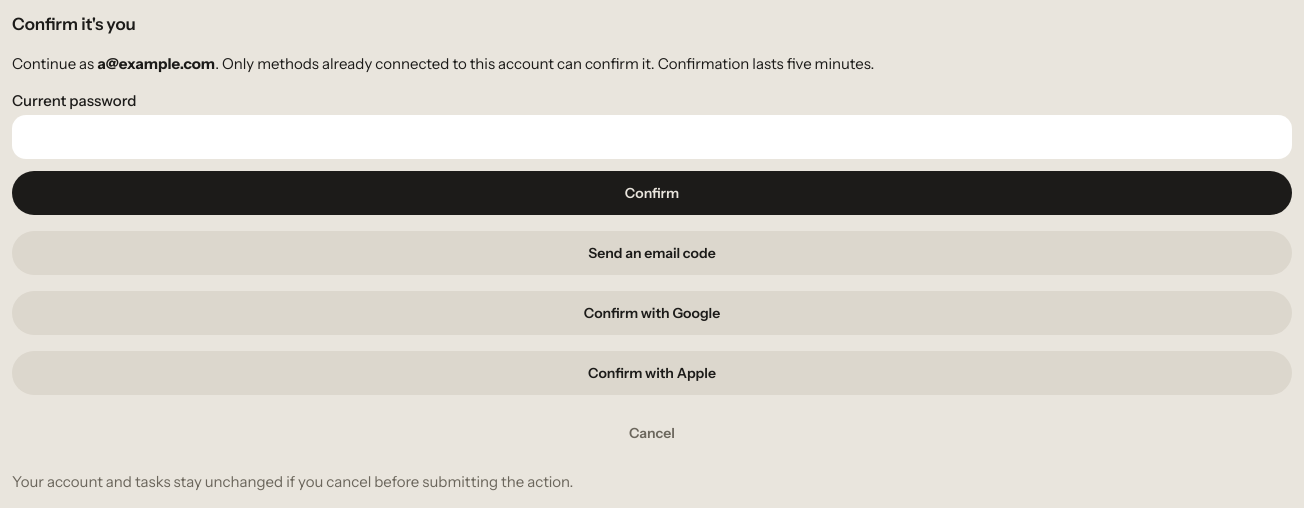
Test: 023-FR-006/008/009/011/013/015/016/021 remaining auth failure and recovery journeys › canceling an email confirmation returns to connected choices and rejects the wrong code purpose
Click the button "Send an email code" at (652, 253), box [12,231,1292,275]
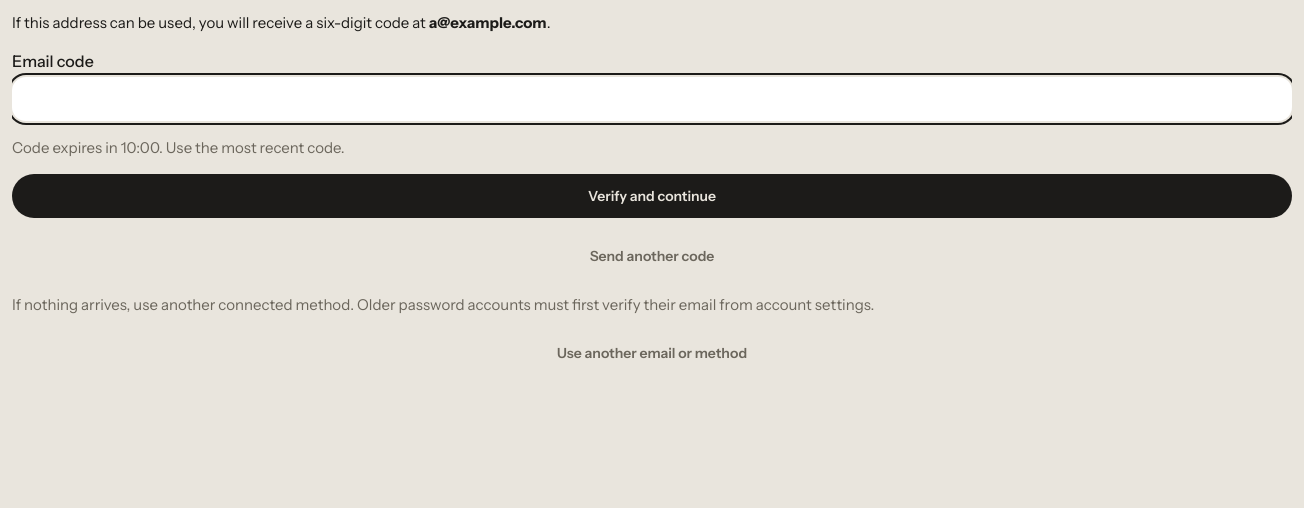
Expected: the field labelled "Email code" is shown, [12,77,1292,121]
Click the button "Use another email or method" at (652, 353), box [12,331,1292,375]
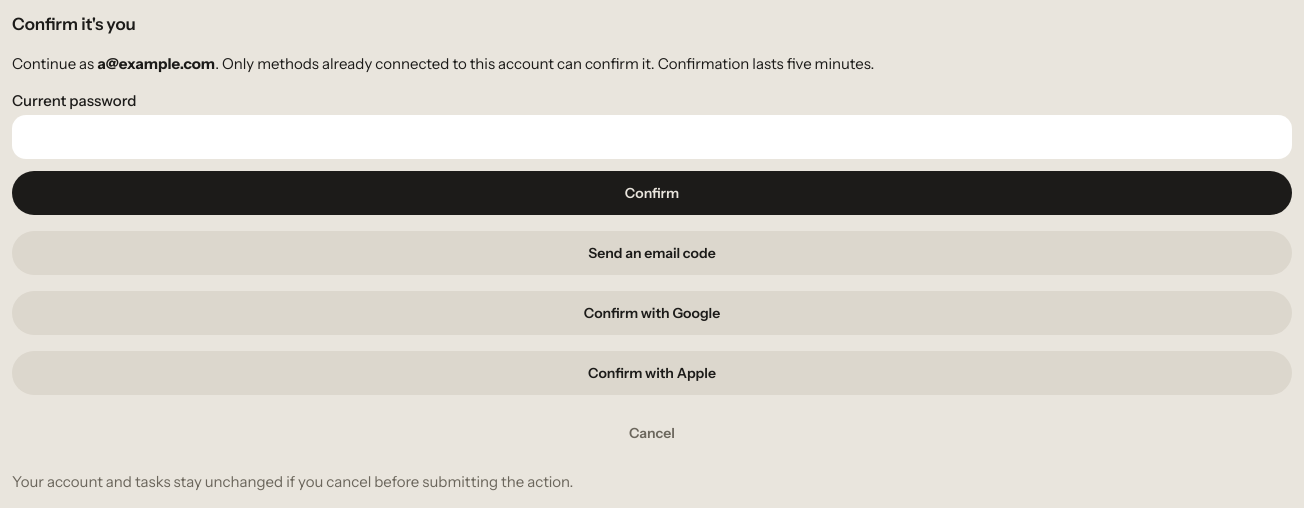
Expected: the button "Confirm with Apple" is shown, [12,351,1292,395]
Click the button "Send an email code" at (652, 253), box [12,231,1292,275]
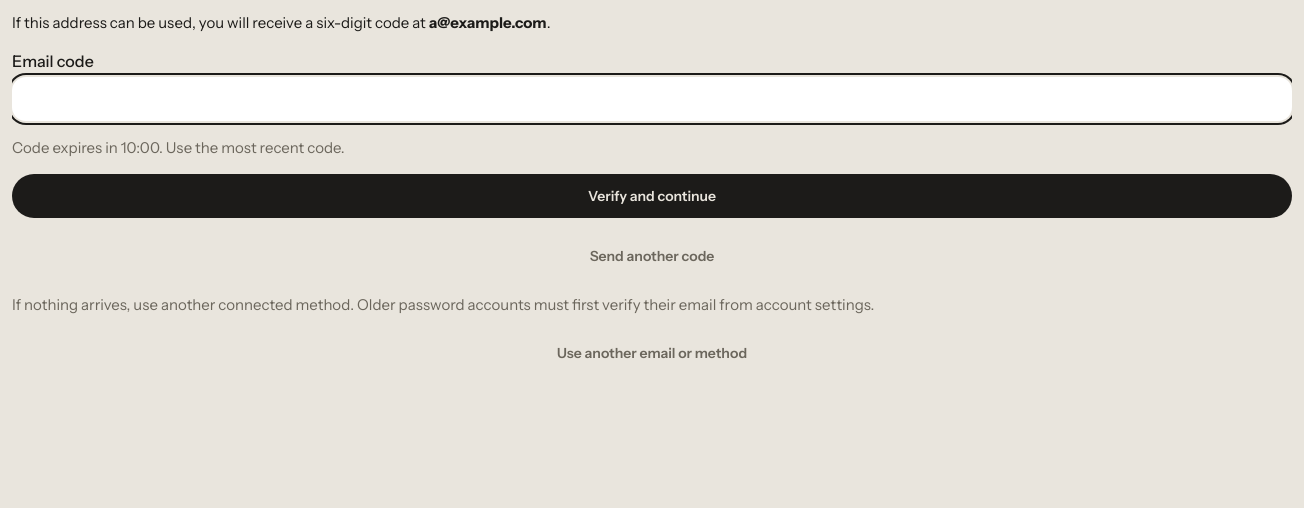
Type "123456" into the field labelled "Email code" at (652, 99), box [12,77,1292,121]
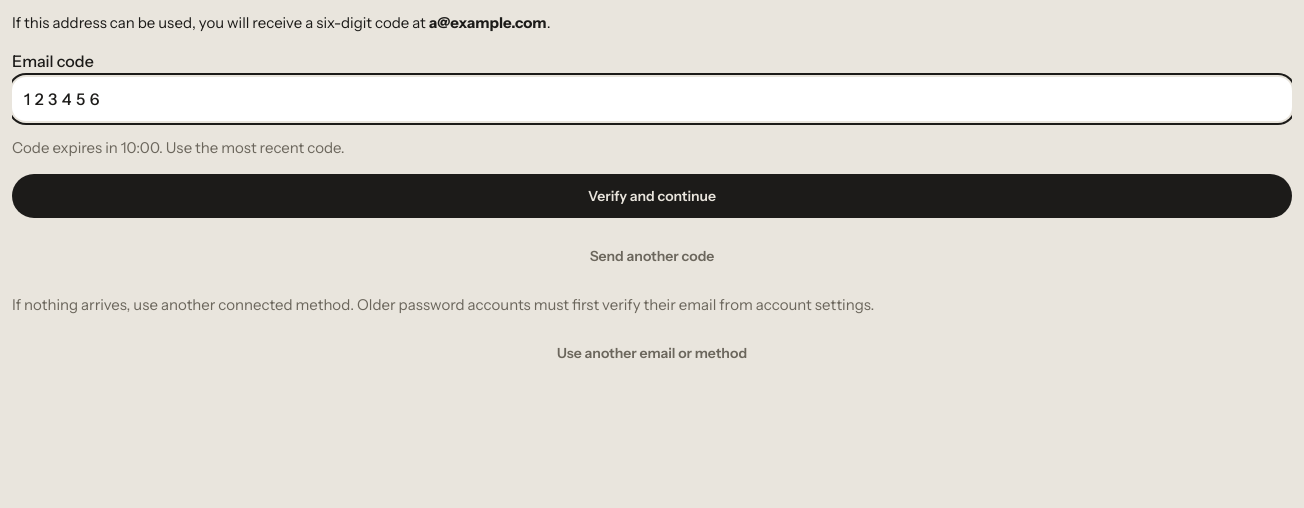
Submit the form labelled "Email code", box [12,49,1292,218]
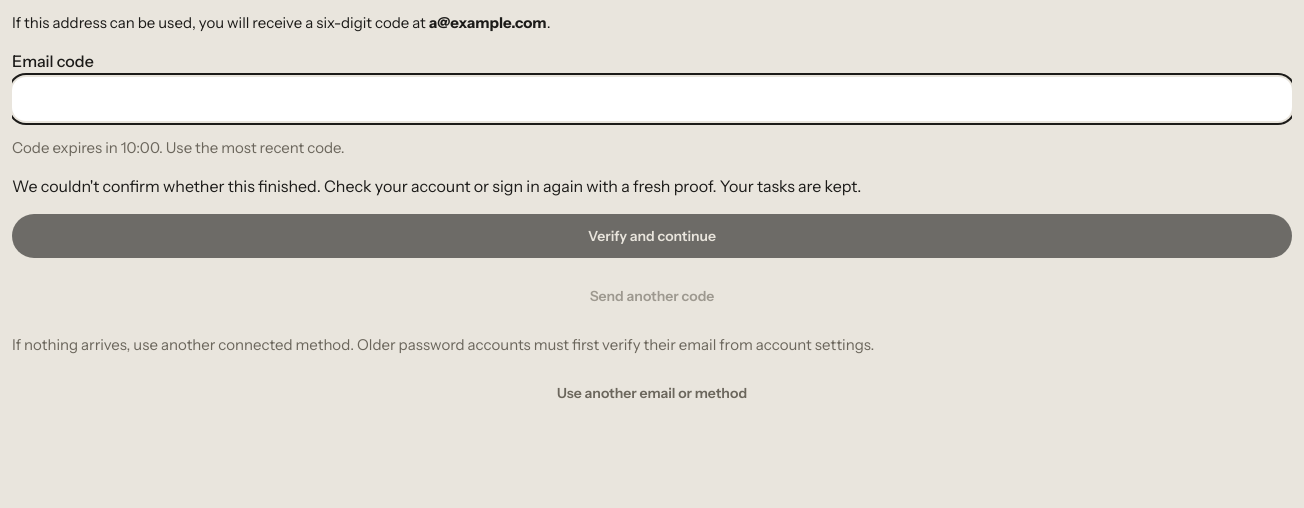
Expected: the message shows "couldn't confirm whether this finished", [12,176,861,196]
